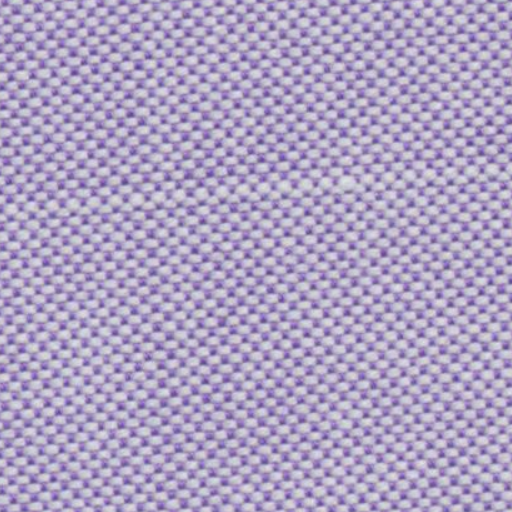TuoSha: (16, 143, 497, 238)
